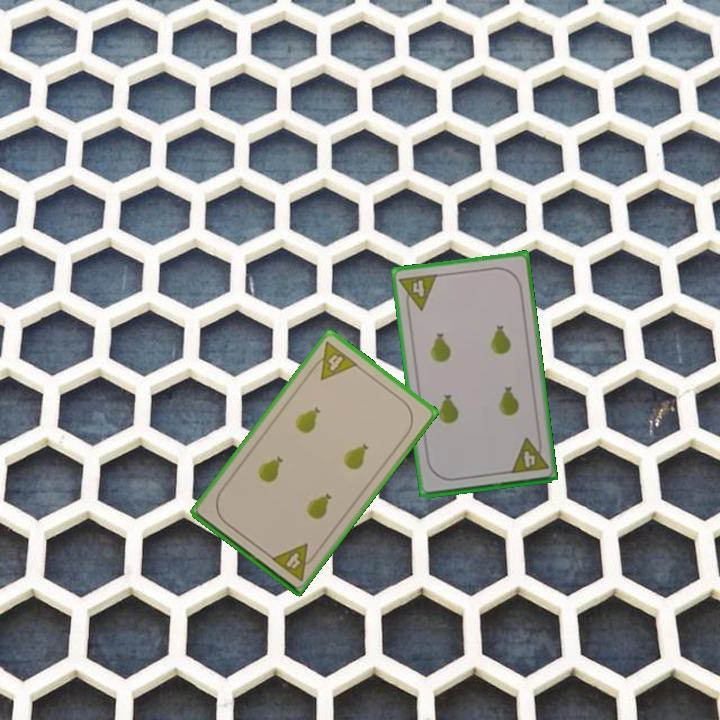4p: (306, 338, 361, 383), (267, 540, 320, 584), (396, 270, 440, 314), (507, 433, 551, 476)
